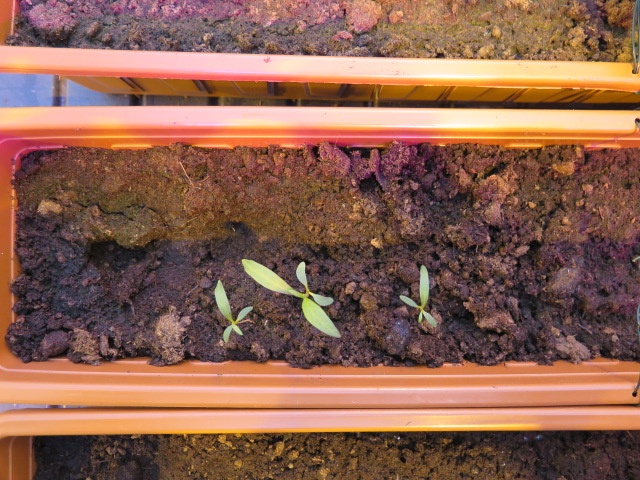crop: (240, 251, 345, 344)
weed: (208, 278, 256, 346), (396, 258, 437, 330)
